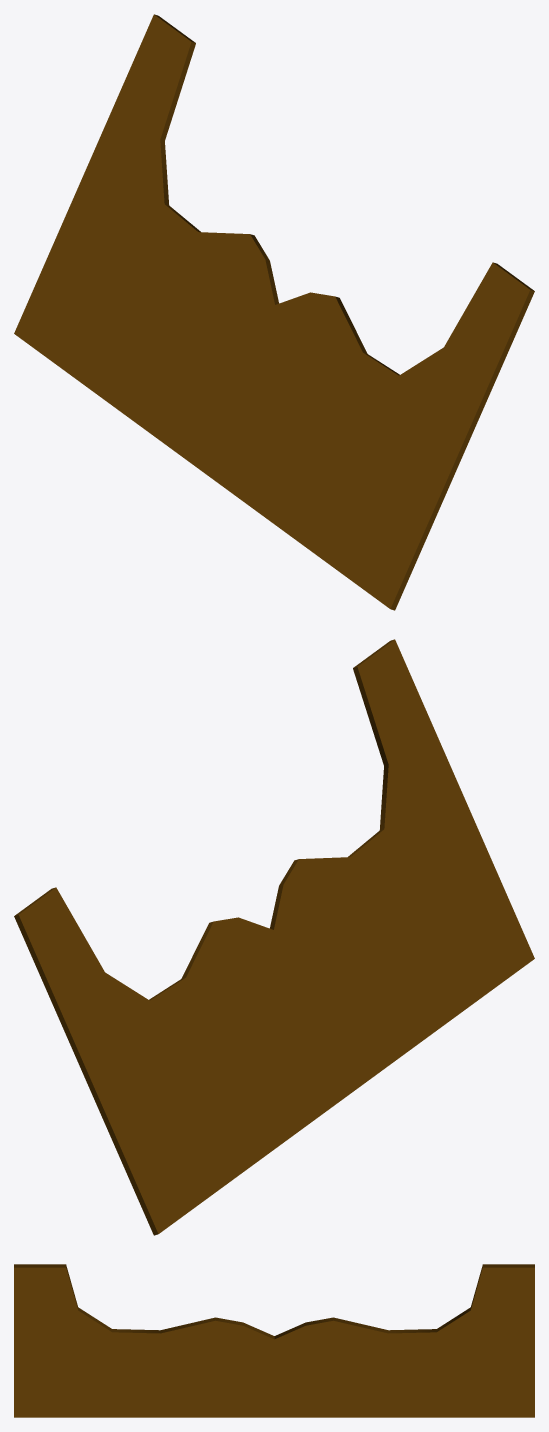
The model's file is Palette_Quarts_instance_1.obj.
The picture shows the model from 3 angles, top to bottom: view 1: azimuth 30°, elevation 25°; view 2: azimuth 150°, elevation 25°; view 3: azimuth 270°, elevation 25°; orthographic projection. The views are drawn at different scales.
Visible parts, largest first — view 1: Face_5, Face_2, Face_9; view 2: Face_5, Face_7, Face_4; view 3: Face_6, Face_4, Face_9, Face_3, Face_8.
Boxes of the visible parts, left/top/right/bottom form: Face_5: left=14, top=14, right=529, bottom=608; Face_2: left=390, top=290, right=534, bottom=610; Face_9: left=160, top=42, right=278, bottom=304; Face_5: left=19, top=639, right=534, bottom=1233; Face_7: left=14, top=915, right=158, bottom=1235; Face_4: left=270, top=667, right=388, bottom=929; Face_6: left=14, top=1267, right=534, bottom=1417; Face_4: left=66, top=1264, right=274, bottom=1339; Face_9: left=274, top=1264, right=482, bottom=1338; Face_3: left=14, top=1264, right=65, bottom=1267; Face_8: left=483, top=1264, right=534, bottom=1267.
Size of the model in its own units: 0.0111 by 0.0211 by 0.05.
